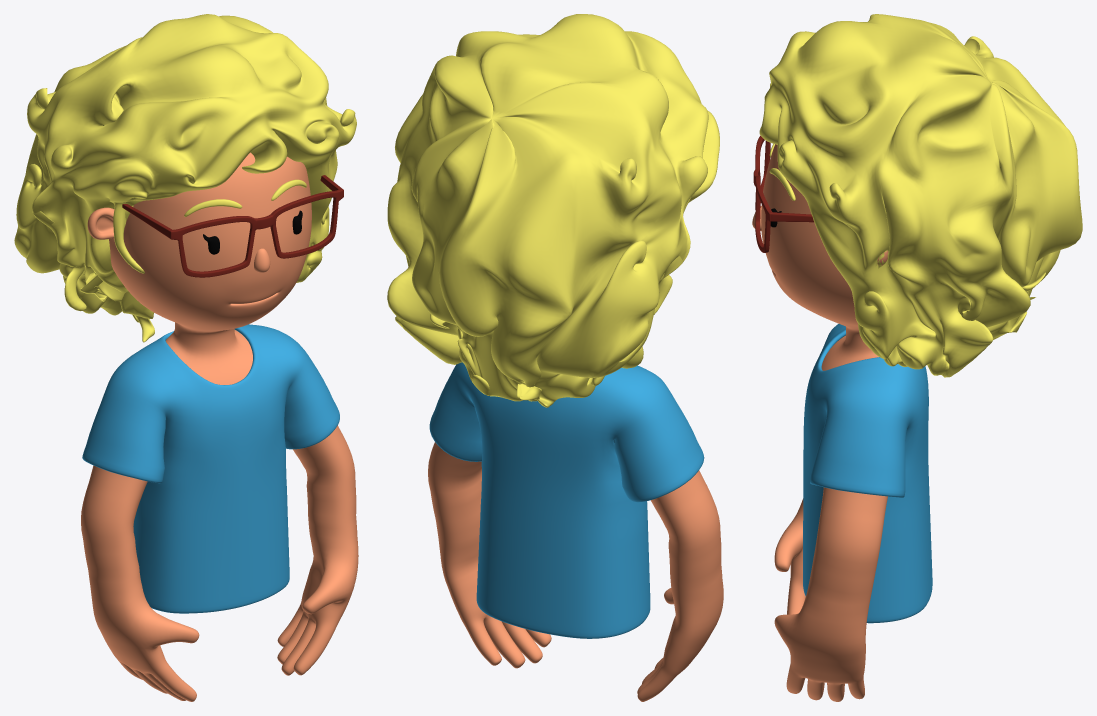
3 views of the same model, side by side, from view 1: azimuth 30°, elevation 25°; view 2: azimuth 150°, elevation 25°; view 3: azimuth 270°, elevation 25° (orthographic). The views are drawn at different scales.
Parts seen in each view (by area): view 1: Hair17, T-shirt, head, body, eyeglass_3; view 2: Hair17, T-shirt, body; view 3: Hair17, T-shirt, body, head, eyeglass_3.
Part boxes in pixels (<box>): Hair17: <box>14,14,356,342</box>; T-shirt: <box>82,324,339,613</box>; head: <box>87,152,311,384</box>; body: <box>81,425,358,701</box>; eyeglass_3: <box>122,175,343,277</box>; Hair17: <box>387,14,719,407</box>; T-shirt: <box>429,362,704,638</box>; body: <box>428,442,723,701</box>; Hair17: <box>759,14,1082,377</box>; T-shirt: <box>803,324,932,623</box>; body: <box>774,487,887,701</box>; head: <box>761,144,888,370</box>; eyeglass_3: <box>753,135,813,252</box>.
Size of the model in its own units: 6.6 by 13.97 by 6.52.
